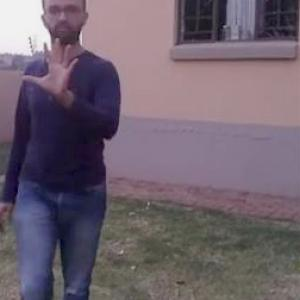follow_hand: (18, 34, 83, 96)
